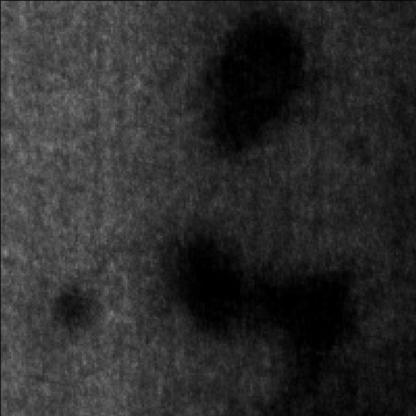patches: (189, 262, 360, 395), (202, 6, 312, 150), (156, 225, 260, 335), (50, 281, 104, 335)
